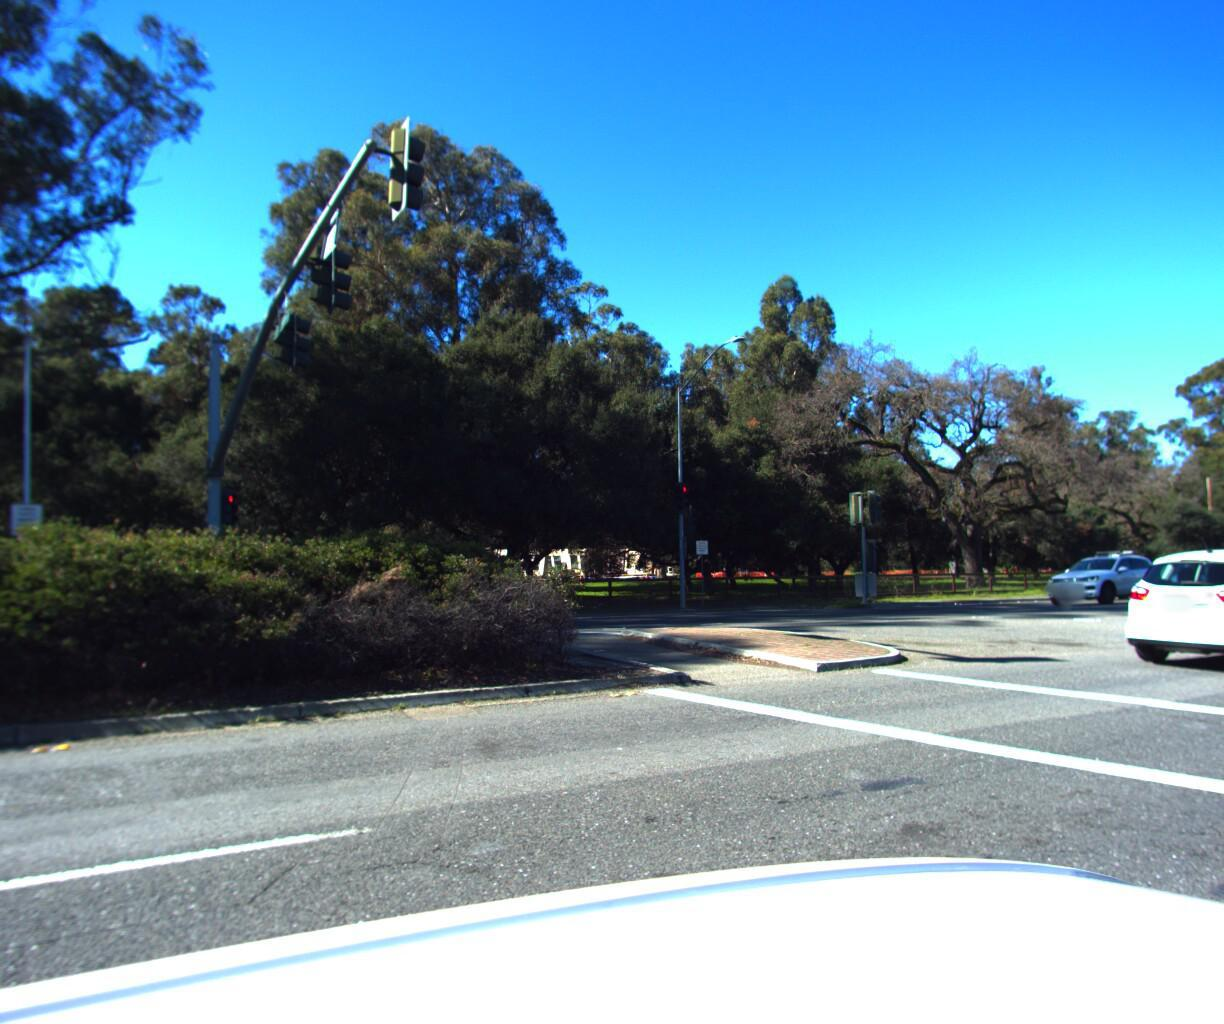car: (1112, 534, 1224, 672), (1030, 545, 1172, 605), (970, 560, 1084, 602)
